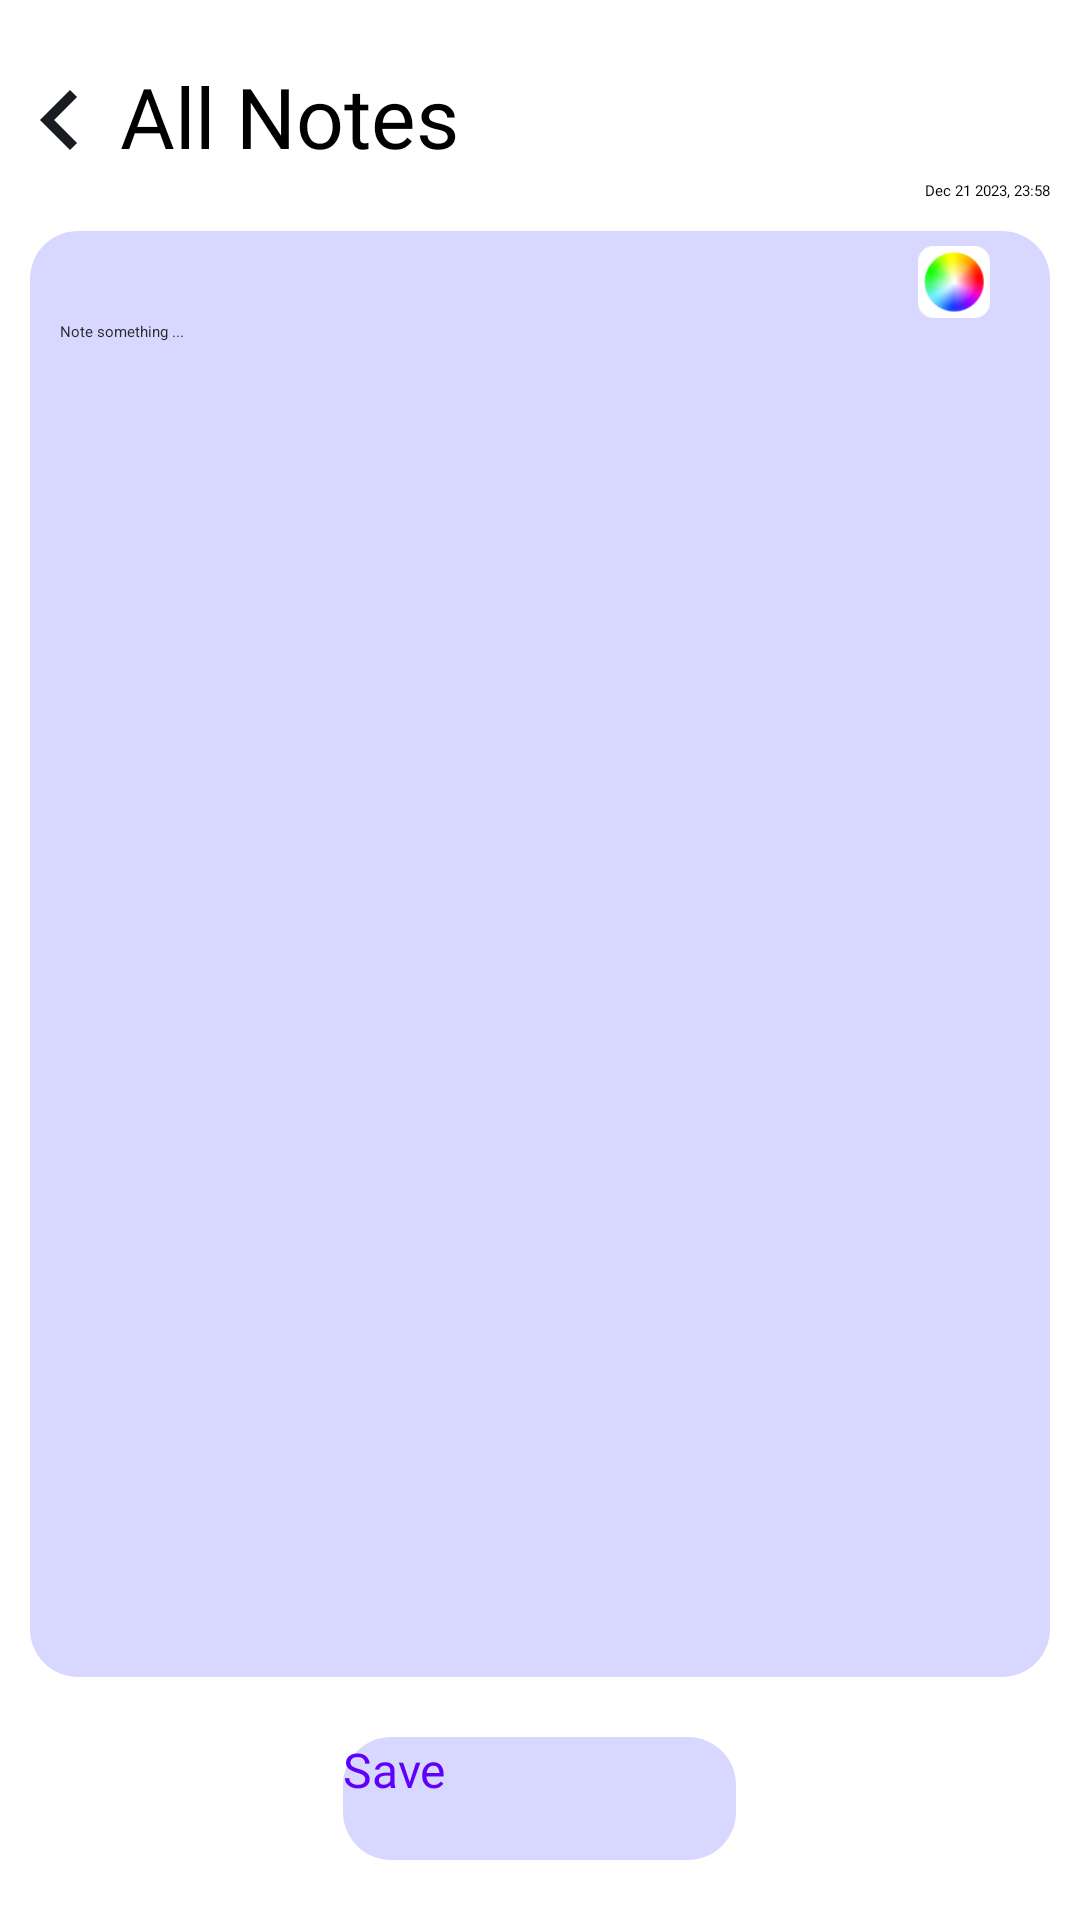

Screen size 1080px x 1920px. Icon name, then its box in pixels as BBox(x1, y1, x2, y2):
back: BBox(40, 90, 77, 150)
